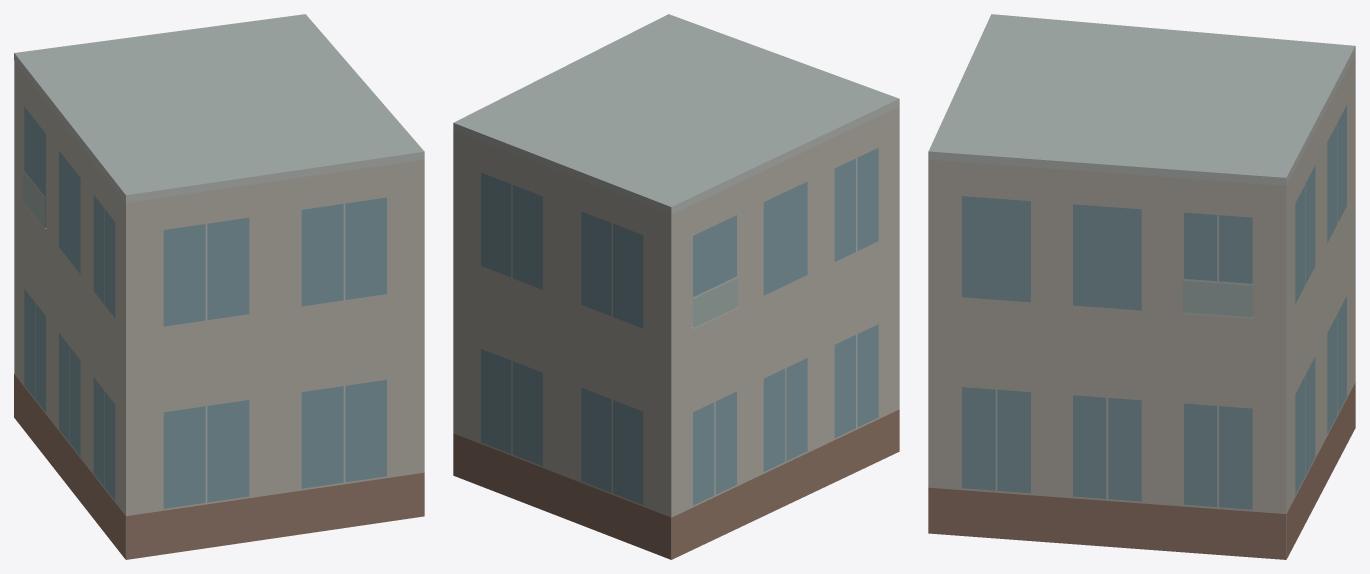
The model's file is survey-upis-32838776.glb.
3 views of the same model, side by side, from view 1: azimuth 30°, elevation 25°; view 2: azimuth 150°, elevation 25°; view 3: azimuth 270°, elevation 25° (orthographic). The views are drawn at different scales.
Parts seen in each view (by area): view 1: survey-upis-32838776.tmp; view 2: survey-upis-32838776.tmp; view 3: survey-upis-32838776.tmp.
Part boxes in pixels (left/top/right/bottom): survey-upis-32838776.tmp: left=14, top=14, right=424, bottom=559; survey-upis-32838776.tmp: left=453, top=14, right=899, bottom=559; survey-upis-32838776.tmp: left=928, top=14, right=1355, bottom=559.
Size of the model in its own units: 10.59 by 11.5 by 11.66.
